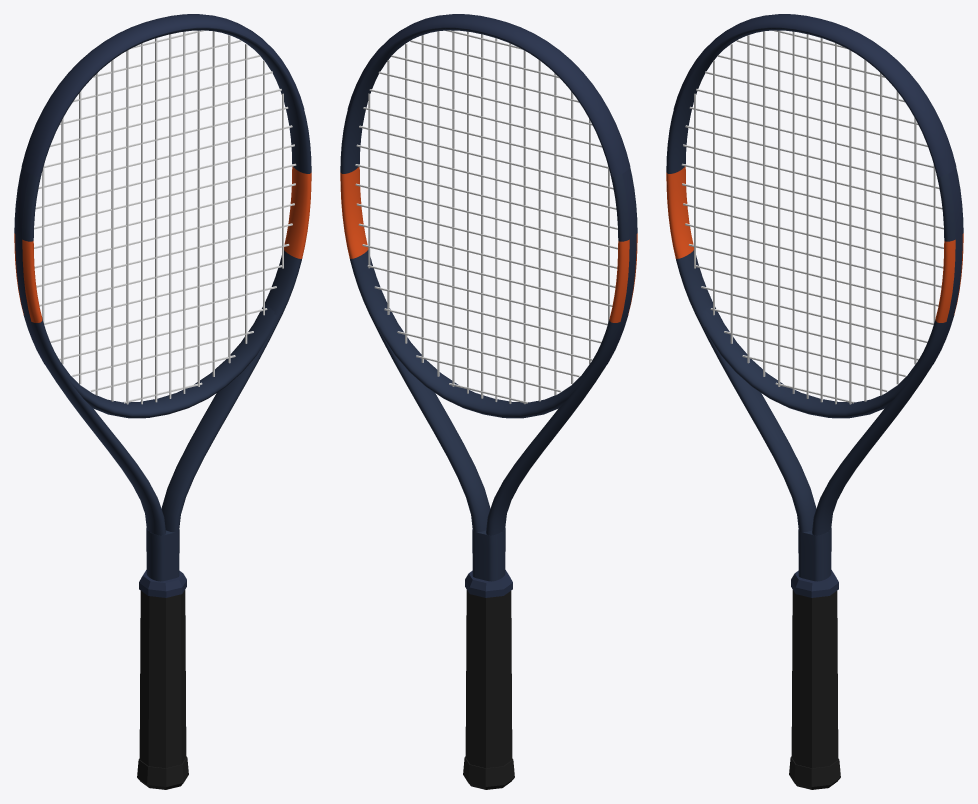
Rendered from babolat-boost-drive-2025.glb.
The picture shows the model from 3 angles, left to right: view 1: azimuth 30°, elevation 25°; view 2: azimuth 150°, elevation 25°; view 3: azimuth 330°, elevation 25°; orthographic projection.
Visible parts, largest first — view 1: frame, strings_mains, strings_crosses, grip, bumper, grommets, butt_cap, collar; view 2: frame, strings_mains, strings_crosses, grip, bumper, grommets, butt_cap, collar; view 3: frame, strings_mains, strings_crosses, grip, bumper, grommets, butt_cap, collar.
Boxes of the visible parts, x1,y1,x2,y2 form: frame: (14, 27, 311, 581); strings_mains: (42, 30, 283, 404); strings_crosses: (34, 30, 296, 403); grip: (139, 590, 186, 768); bumper: (21, 14, 304, 176); grommets: (15, 169, 50, 367); butt_cap: (137, 756, 188, 789); collar: (139, 570, 186, 597); frame: (340, 27, 637, 581); strings_mains: (368, 30, 609, 404); strings_crosses: (355, 30, 617, 403); grip: (465, 590, 512, 768); bumper: (347, 14, 630, 176); grommets: (601, 169, 636, 367); butt_cap: (463, 756, 514, 789); collar: (465, 570, 512, 597); frame: (666, 27, 963, 581); strings_mains: (694, 30, 935, 404); strings_crosses: (681, 30, 943, 403); grip: (791, 590, 838, 768); bumper: (673, 14, 956, 176); grommets: (927, 169, 962, 367); butt_cap: (789, 756, 840, 789); collar: (791, 570, 838, 597).
Size of the model in its own units: 0.2738 by 0.6861 by 0.0396.
